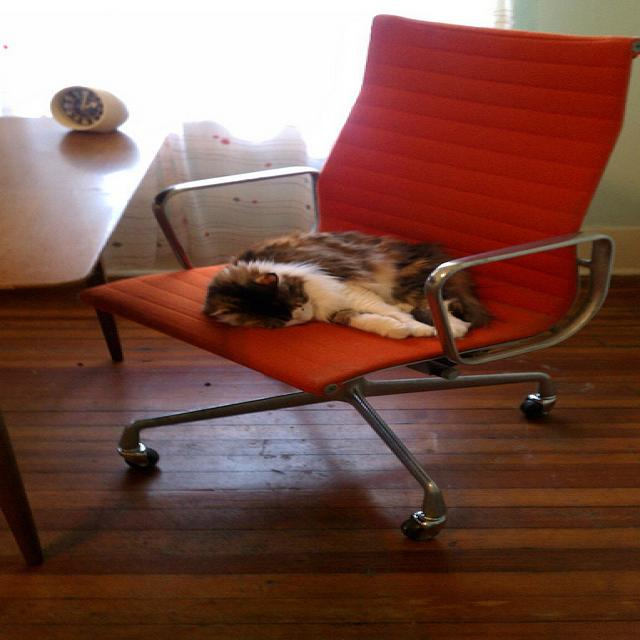chair: (85, 11, 640, 500)
dining table: (0, 117, 176, 363)
